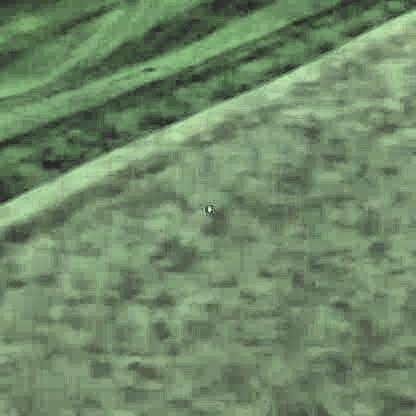golfball: (204, 204, 209, 209)
